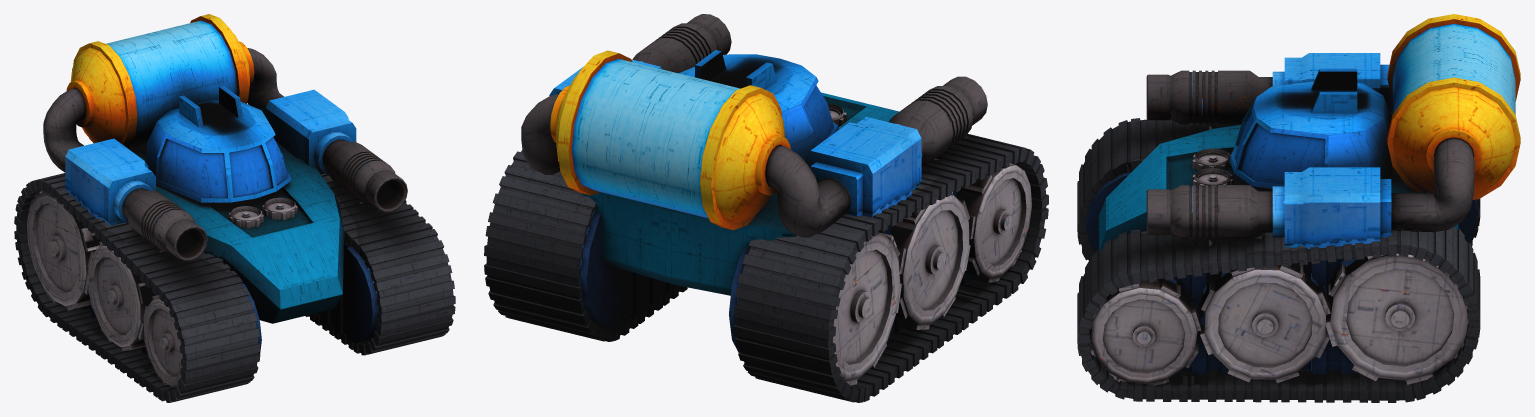
File: PlayerB2.obj
3 views of the same model, side by side, from view 1: azimuth 30°, elevation 25°; view 2: azimuth 150°, elevation 25°; view 3: azimuth 270°, elevation 25° (orthographic). The views are drawn at different scales.
Visible parts, largest first — view 1: Object001, Box042, Object004, Object003, Object002; view 2: Object001, Box042, Object003, Object004, Object002; view 3: Object001, Box042, Object004, Object003, Object002.
Boxes of the visible parts, x1,y1,x2,y2 form: Object001: (43,14,407,355); Box042: (14,173,455,402); Object004: (27,190,101,310); Object003: (87,241,156,350); Object002: (143,295,182,387); Object001: (521,14,987,352); Box042: (484,134,1048,402); Object003: (890,191,970,329); Object004: (833,232,901,385); Object002: (959,163,1031,282); Object001: (1085,14,1520,374); Box042: (1077,118,1480,402); Object004: (1325,253,1468,384); Object003: (1200,263,1330,383); Object002: (1090,278,1201,385).
Size of the model in its own units: 121 by 101 by 147.
2 materials, 2 textured.
